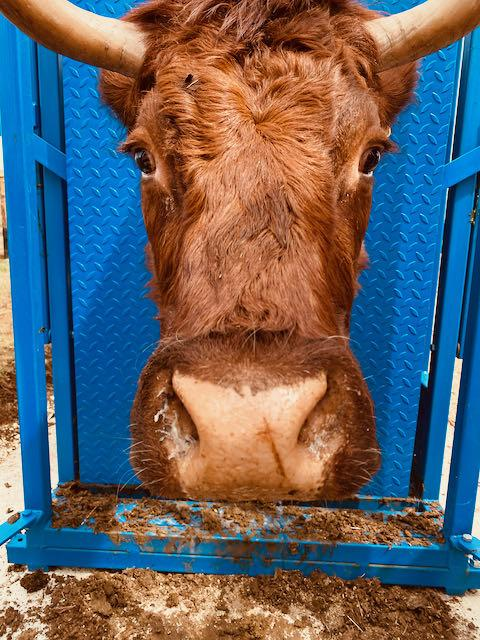muzzles: (119, 344, 387, 513)
